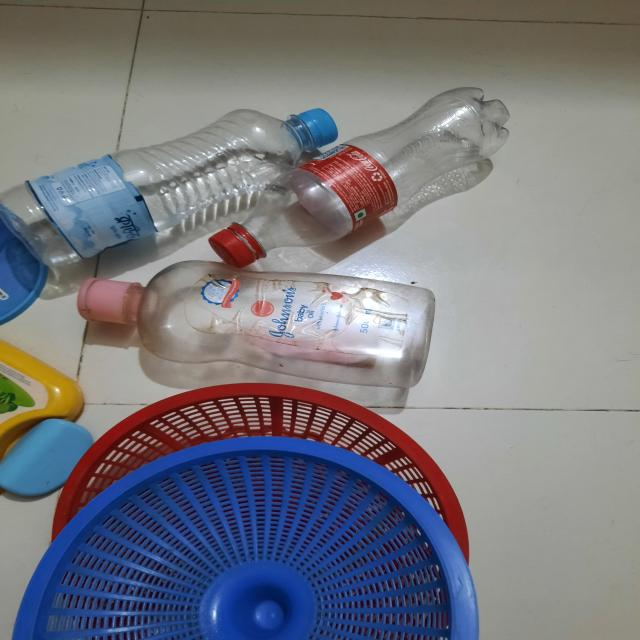Plastics: (0, 91, 537, 640)
